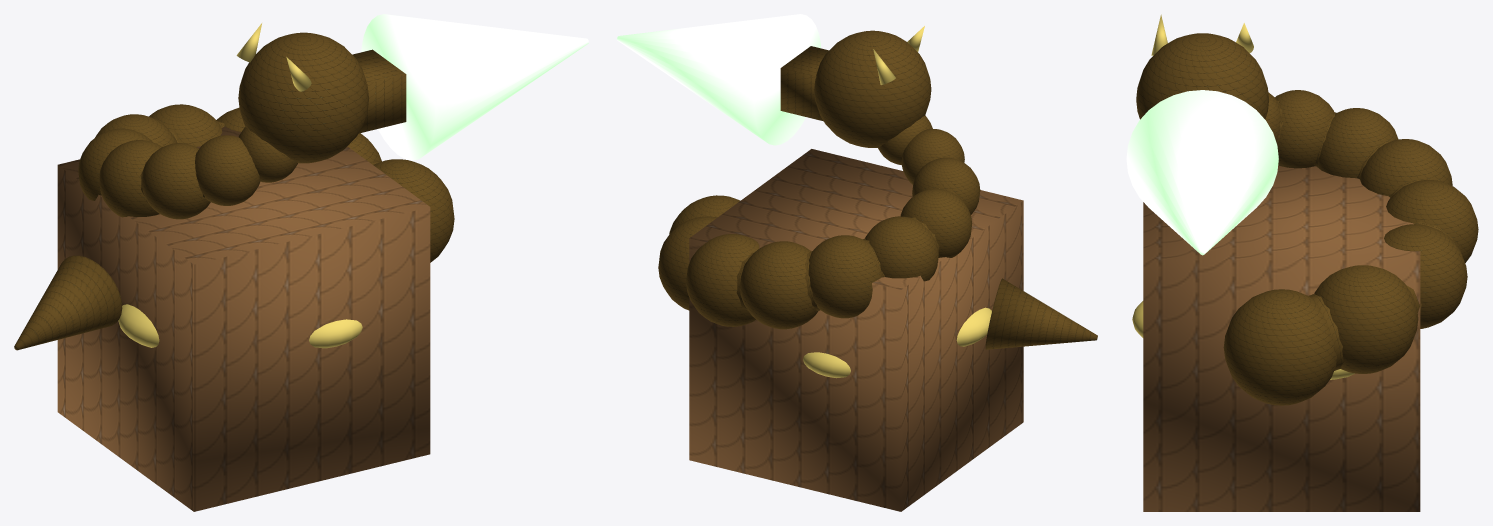
The model's file is fafnir.glb.
3 views of the same model, side by side, from view 1: azimuth 30°, elevation 25°; view 2: azimuth 150°, elevation 25°; view 3: azimuth 270°, elevation 25° (orthographic). The views are drawn at different scales.
Parts seen in each view (by area): view 1: Cube, Breath, Head, TailTip, CoilSeg7, CoilSeg8, CoilSeg6, CoilSeg0, Snout, CoilSeg3, CoilSeg5, CoilSeg9 (+3 smaller); view 2: Cube, Breath, Head, CoilSeg3, CoilSeg4, CoilSeg2, TailTip, CoilSeg5, CoilSeg6, Snout, CoilSeg1, CoilSeg7 (+5 smaller); view 3: Cube, Breath, CoilSeg0, CoilSeg1, Head, CoilSeg2, CoilSeg3, CoilSeg5, CoilSeg6, CoilSeg4, CoilLink1, CoilSeg7.
Part boxes in pixels (bbox=[...]): Cube: bbox=[57, 126, 430, 511]; Breath: bbox=[361, 14, 588, 160]; Head: bbox=[238, 32, 369, 163]; TailTip: bbox=[14, 255, 122, 350]; CoilSeg7: bbox=[141, 143, 210, 219]; CoilSeg8: bbox=[195, 135, 260, 205]; CoilSeg6: bbox=[99, 140, 161, 217]; CoilSeg0: bbox=[373, 159, 454, 262]; Snout: bbox=[352, 49, 406, 133]; CoilSeg3: bbox=[149, 104, 222, 146]; CoilSeg5: bbox=[78, 128, 152, 200]; CoilSeg9: bbox=[238, 127, 297, 182]; Cube: bbox=[689, 149, 1023, 511]; Breath: bbox=[617, 14, 820, 145]; Head: bbox=[814, 30, 931, 147]; CoilSeg3: bbox=[740, 241, 818, 329]; CoilSeg4: bbox=[808, 235, 881, 318]; CoilSeg2: bbox=[686, 234, 759, 326]; TailTip: bbox=[985, 278, 1097, 349]; CoilSeg5: bbox=[865, 216, 938, 281]; CoilSeg6: bbox=[900, 188, 972, 257]; Snout: bbox=[780, 46, 828, 121]; CoilSeg1: bbox=[658, 216, 716, 310]; CoilSeg7: bbox=[912, 157, 980, 214]; Cube: bbox=[1143, 165, 1420, 511]; Breath: bbox=[1126, 90, 1278, 255]; CoilSeg0: bbox=[1223, 289, 1336, 405]; CoilSeg1: bbox=[1314, 265, 1418, 373]; Head: bbox=[1136, 33, 1268, 119]; CoilSeg2: bbox=[1384, 224, 1467, 328]; CoilSeg3: bbox=[1386, 180, 1478, 262]; CoilSeg5: bbox=[1317, 108, 1398, 178]; CoilSeg6: bbox=[1275, 90, 1334, 168]; CoilSeg4: bbox=[1360, 139, 1452, 196]; CoilLink1: bbox=[1309, 293, 1344, 370]; CoilSeg7: bbox=[1265, 92, 1281, 142].
Bounding box in the file's own units: 4.85 × 3.55 × 2.63.
4 materials, 2 textured.
